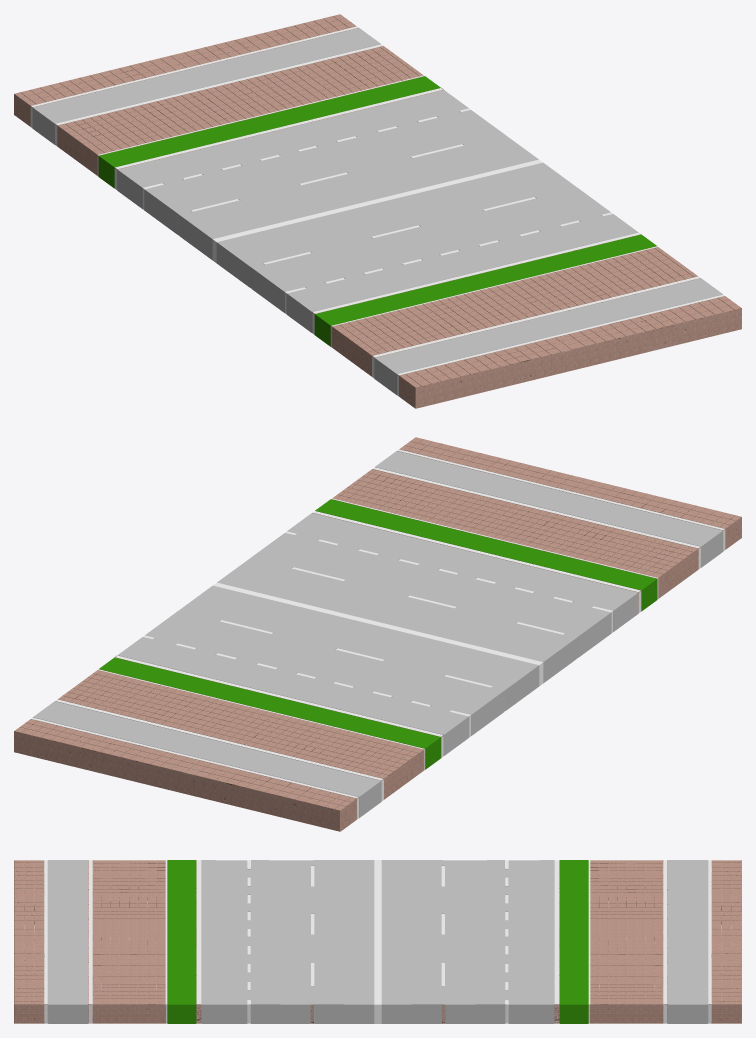
File: road.fbx
3 views of the same model, one above another, from view 1: azimuth 30°, elevation 25°; view 2: azimuth 150°, elevation 25°; view 3: azimuth 270°, elevation 25° (orthographic). The views are drawn at different scales.
Parts seen in each view (by area): view 1: Cube.003; view 2: Cube.003; view 3: Cube.003.
Part boxes in pixels (box(x1,y1,x2,y2)): Cube.003: box(14, 14, 741, 408); Cube.003: box(14, 437, 741, 831); Cube.003: box(14, 860, 741, 1023).
Bounding box in the file's own units: 2001 × 125 × 4262.
